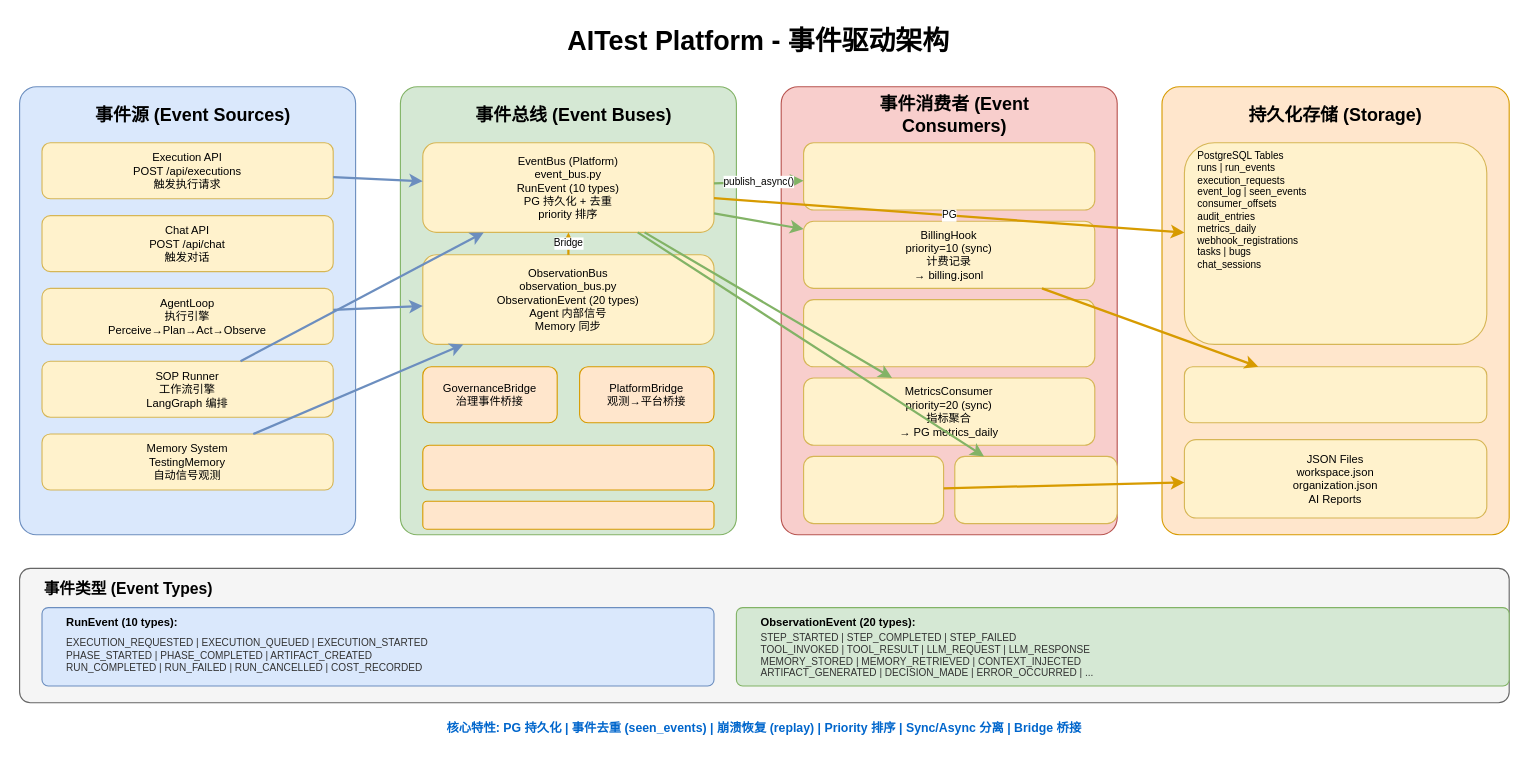
The diagram is 1529 pixels wide and 760 high, and some of its shapes have lost their labels. Here are the shapes that lost their labels. From the top down, the box of each, then its label:
(802, 142, 1095, 210): AuditLogger priority=0 (sync) 通配符 * → PG audit_entries
(802, 298, 1095, 367): QuotaUsage priority=15 (sync) 配额监控 内存 + PG
(1183, 366, 1487, 423): JSONL Files billing.jsonl 计费记录
(422, 444, 714, 490): EngineEventBusAdapter 引擎事件适配
(802, 455, 944, 524): ReportConsumer priority=20 (sync) AI 报告生成 → JSON files
(954, 455, 1117, 524): WebhookDispatcher priority=30 (async) ThreadPoolExecutor → HTTP POST
(422, 500, 714, 529): Event Replay event_replay.py 崩溃恢复 + 重放
